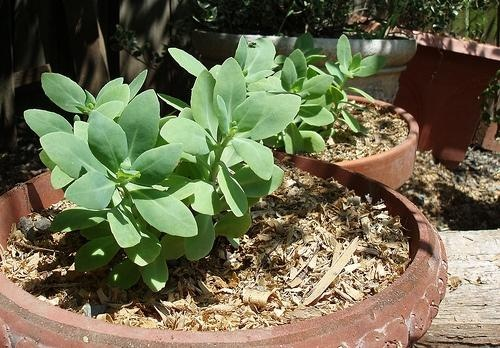pottedplant: (1, 57, 450, 348), (168, 34, 420, 190), (300, 1, 500, 168)
